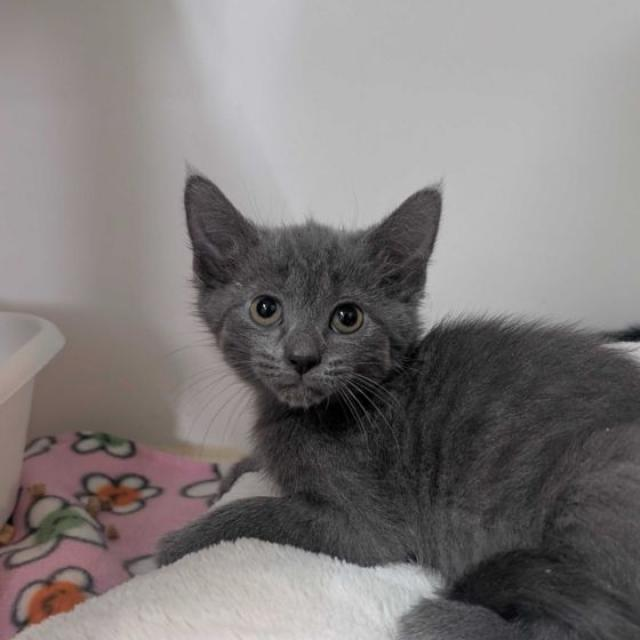russian_blue_cat: (171, 161, 467, 457)
